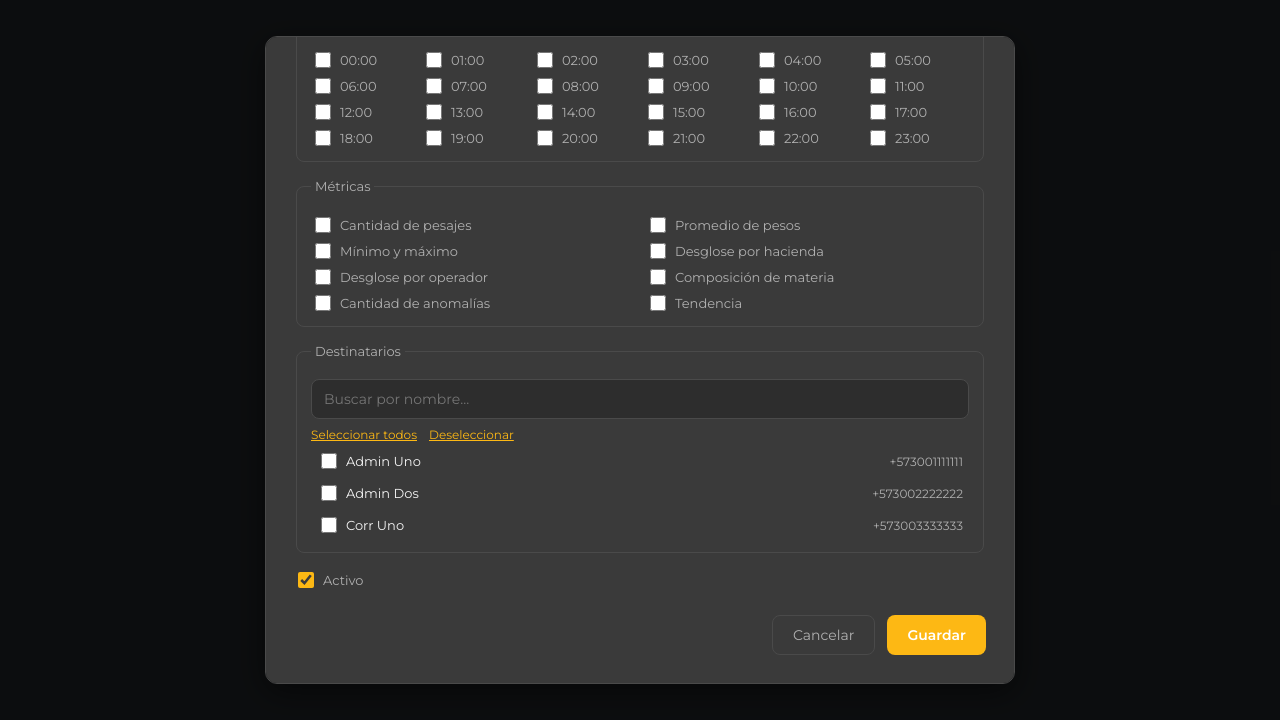
Test: TemplateFormModal › validacion de nombre (R5) › muestra error si nombre esta vacio al guardar
(page scrolled)
Expected: the text "Admin Uno" is shown, [346,453,421,469]
# Find and click the Guardar button without filling name
Click the button "Guardar": (937, 635) [887,615,986,655]
(page scrolled)
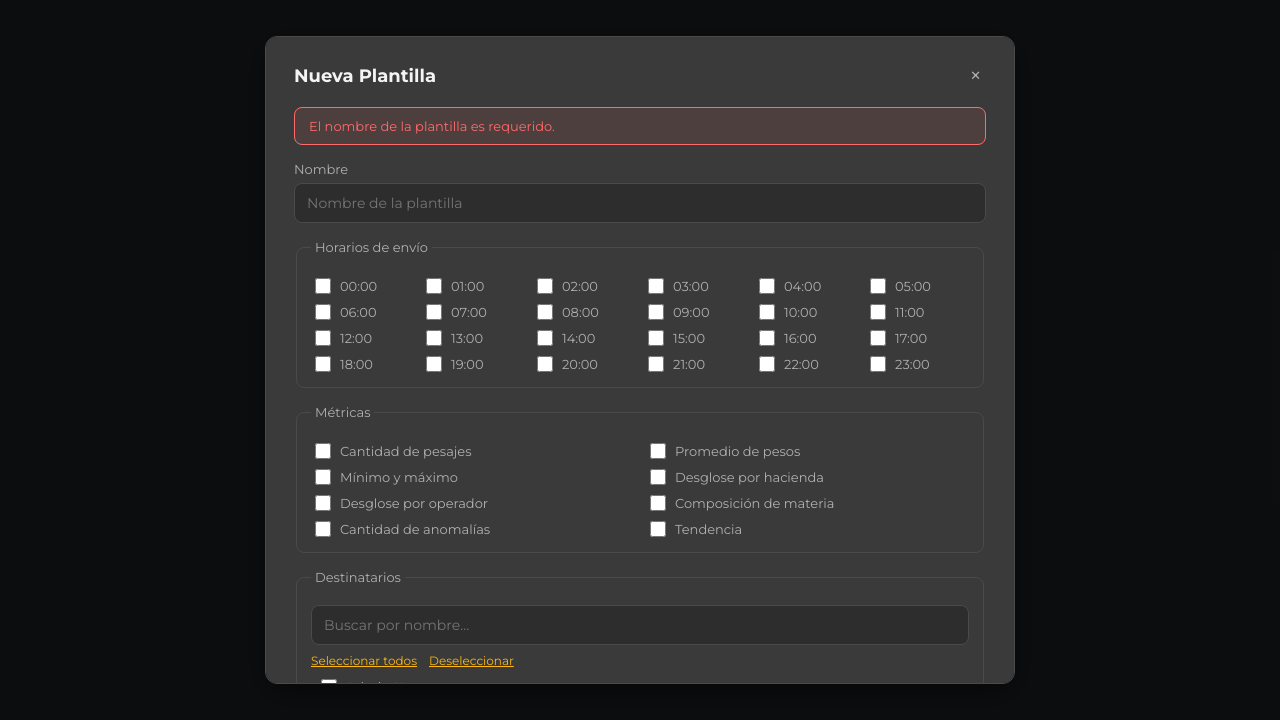
Now the text "El nombre de la plantilla es requerido." is shown, box [294,107,986,145]
